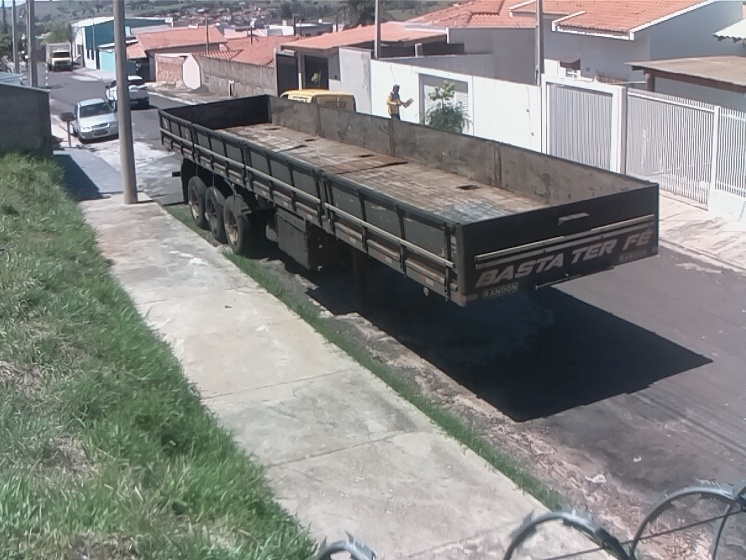person: (384, 83, 414, 122)
